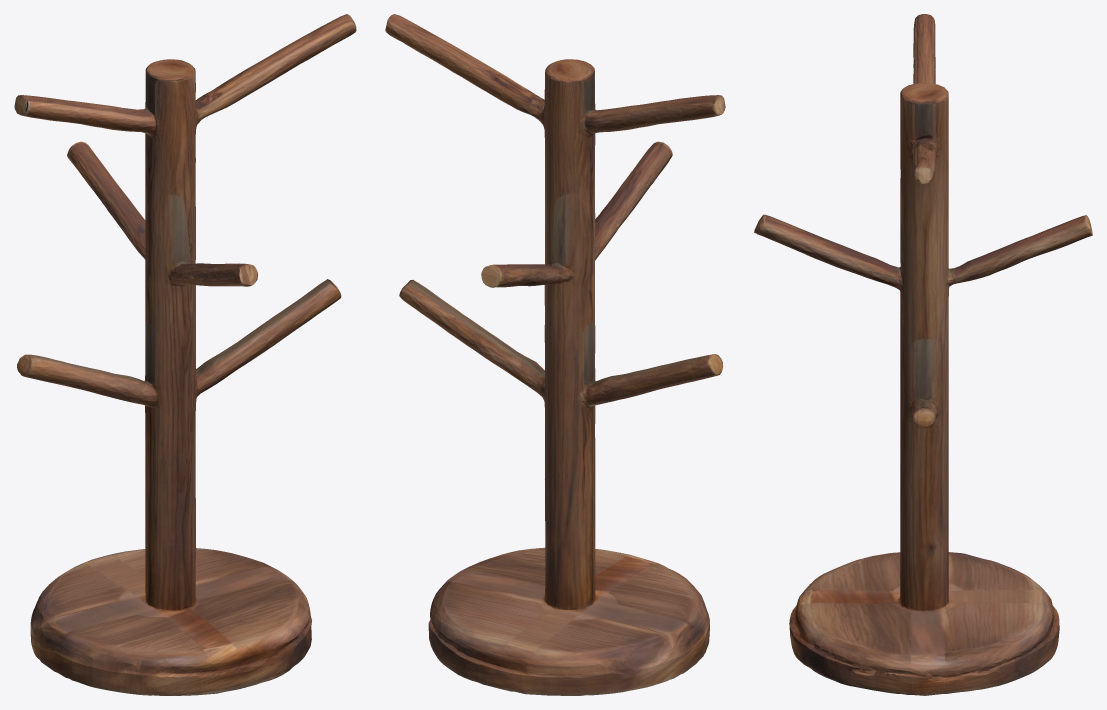
The model's file is mug_rack.obj.
3 renders of one model, left to right at view 1: azimuth 30°, elevation 25°; view 2: azimuth 150°, elevation 25°; view 3: azimuth 270°, elevation 25°, orthographic. The views are drawn at different scales.
Parts seen in each view (by area): view 1: mug_rack; view 2: mug_rack; view 3: mug_rack.
Part boxes in pixels (x1,y1,x2,y2): mug_rack: [14, 14, 356, 695]; mug_rack: [385, 14, 725, 695]; mug_rack: [754, 14, 1092, 695].
Bounding box in the file's own units: 1.21 × 2 × 1.11.
Materials: 1 (1 with a texture image).
